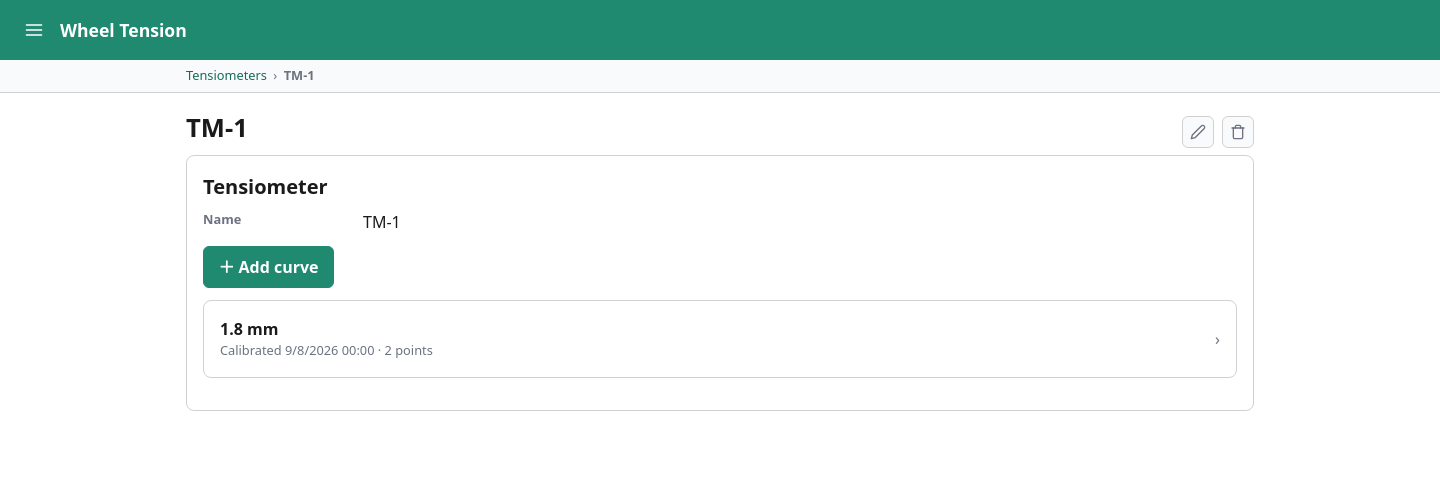
Scenario: TensiometerDetailPage › does not create a curve when the new curve edit is cancelled
Click the button "＋ Add curve": (268, 267) [203,246,334,288]
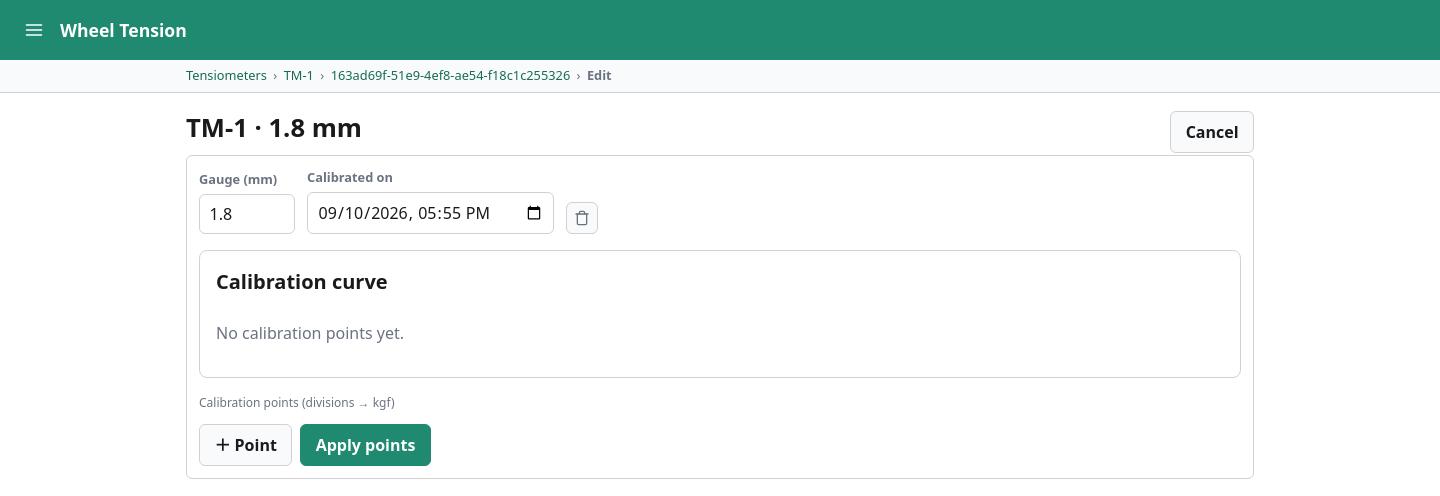
Click the button "Cancel": (1212, 132) [1170,111,1254,153]
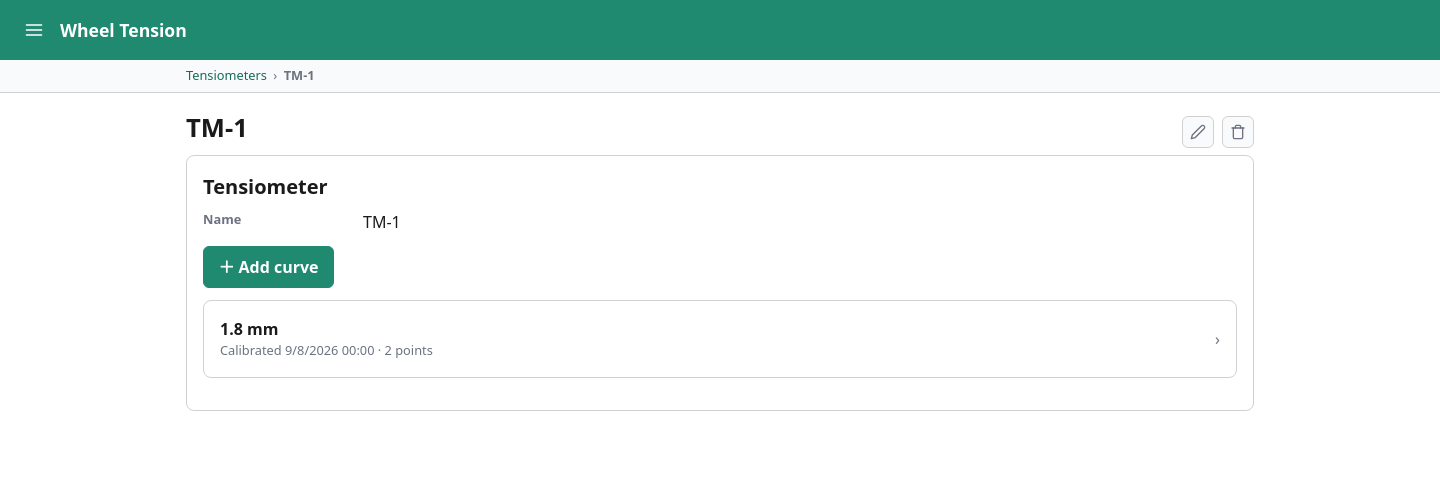
Check: the text "1.8 mm" is shown once, box [220,318,278,340]
Check: the heading "Tensiometer" is shown, box [203,172,328,202]
